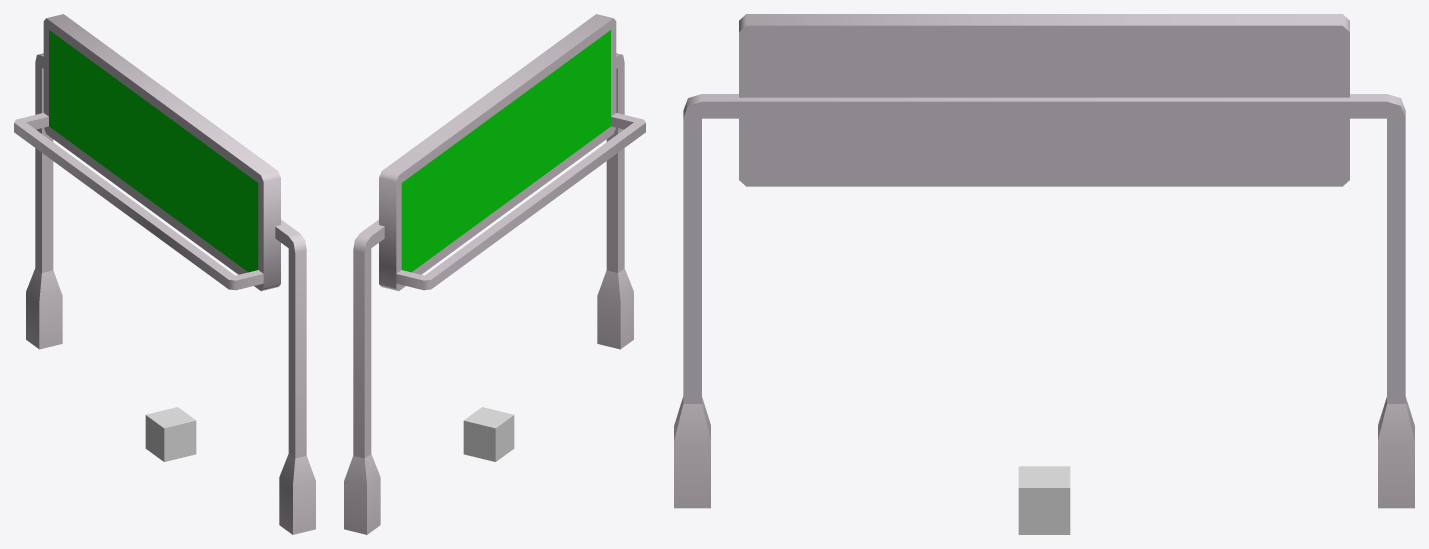
Rendered from func-start.glb.
3 renders of one model, left to right at view 1: azimuth 30°, elevation 25°; view 2: azimuth 150°, elevation 25°; view 3: azimuth 270°, elevation 25°, orthographic. The views are drawn at different scales.
Visible parts, largest first — view 1: start, startSpawnPoint; view 2: start, startSpawnPoint; view 3: start, startSpawnPoint.
Boxes of the visible parts, box(x1,y1,x2,y2) form: start: box(14, 14, 315, 534); startSpawnPoint: box(145, 407, 196, 461); start: box(344, 14, 645, 534); startSpawnPoint: box(463, 407, 514, 461); start: box(674, 14, 1414, 508); startSpawnPoint: box(1018, 466, 1070, 534).
Bounding box in the file's own units: 0.1423 × 0.7423 × 1.
